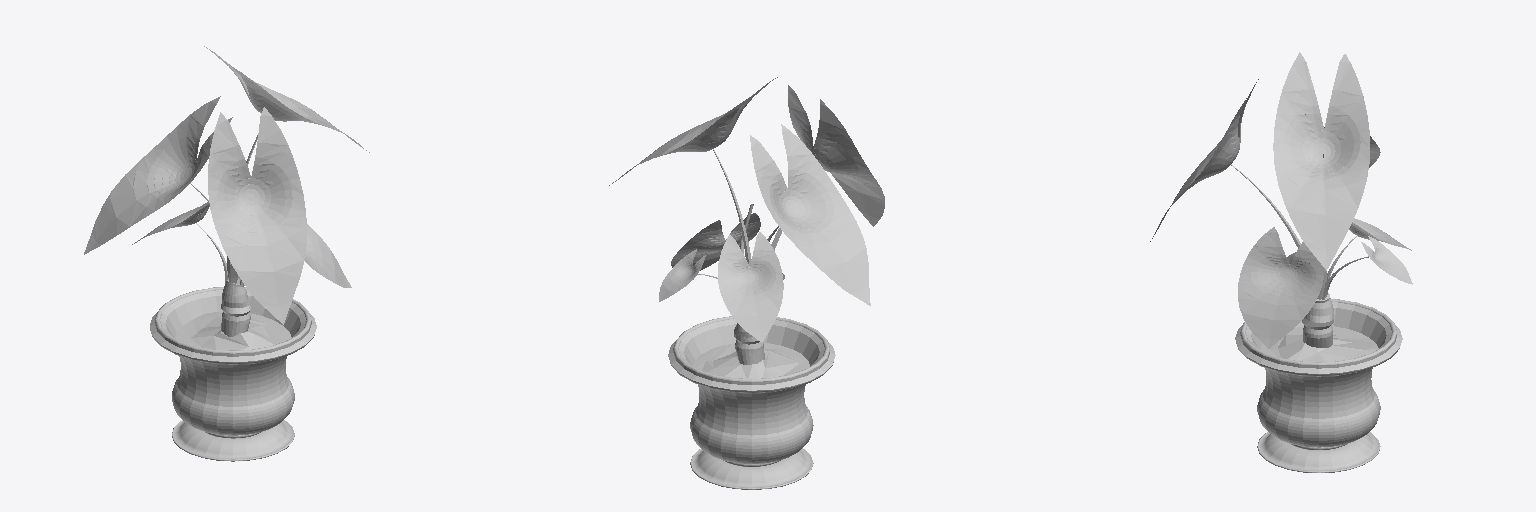
The model's file is plantmesh.obj.
3 renders of one model, left to right at view 1: azimuth 30°, elevation 25°; view 2: azimuth 150°, elevation 25°; view 3: azimuth 270°, elevation 25°, orthographic.
Size of the model in its own units: 34.11 by 45.76 by 28.61.